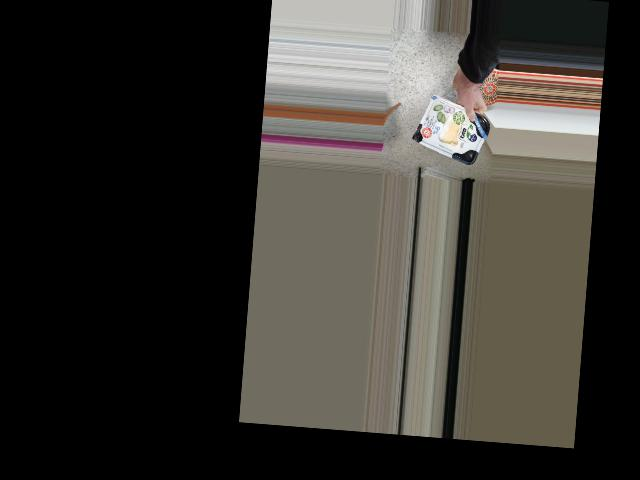cheese: (418, 101, 484, 157)
